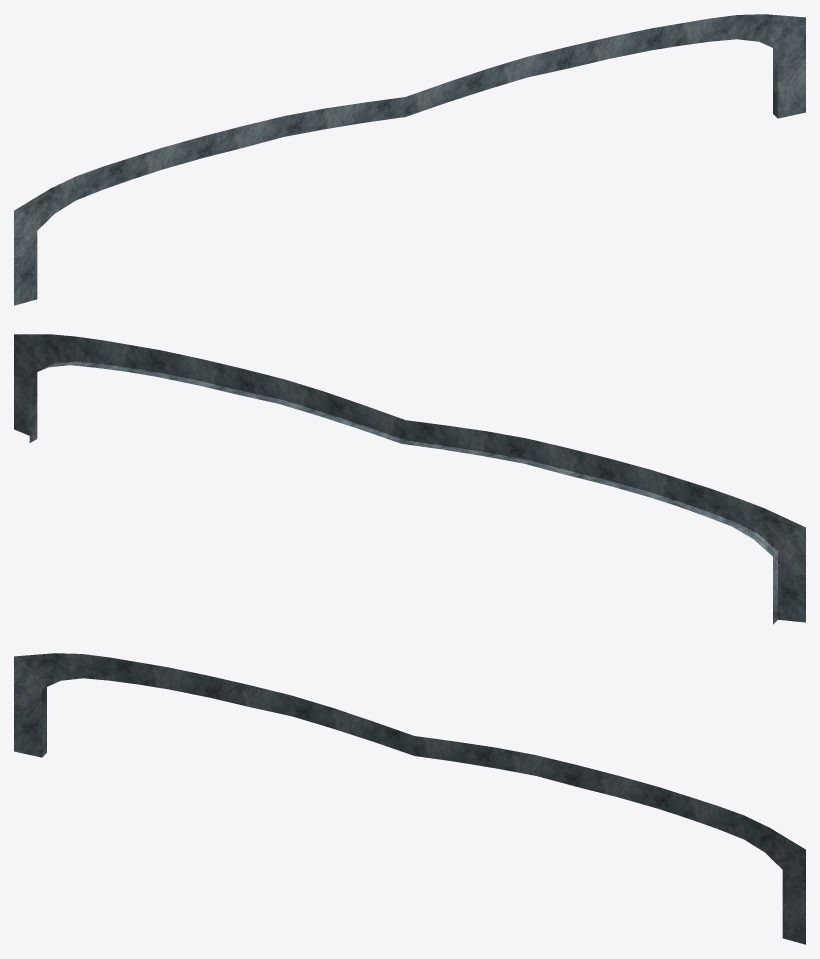
File: SM_Town012_ML.FBX
3 renders of one model, top to bottom at view 1: azimuth 30°, elevation 25°; view 2: azimuth 150°, elevation 25°; view 3: azimuth 330°, elevation 25°, orthographic.
Parts seen in each view (by area): view 1: SM_Town012_ML; view 2: SM_Town012_ML; view 3: SM_Town012_ML.
Part boxes in pixels (<box>): SM_Town012_ML: <box>14,14,805,305</box>; SM_Town012_ML: <box>14,334,805,624</box>; SM_Town012_ML: <box>14,653,805,944</box>.
Bounding box in the file's own units: 8146 × 1197 × 157.
1 material, 1 textured.
